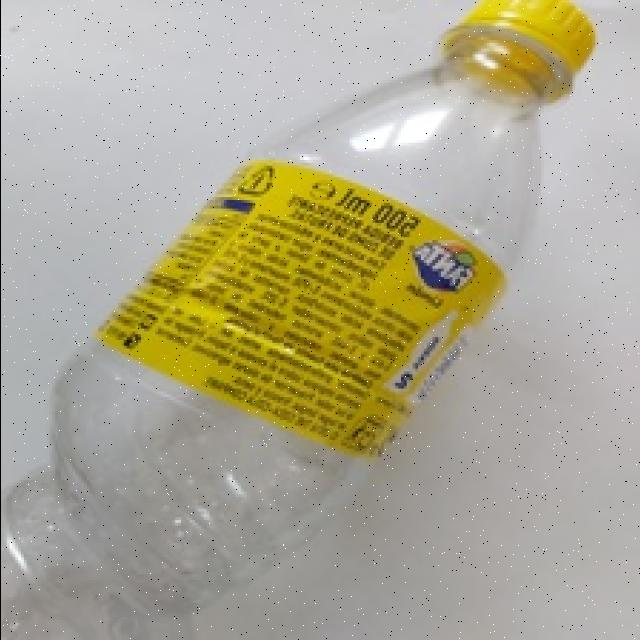plastic: (0, 0, 597, 603)
